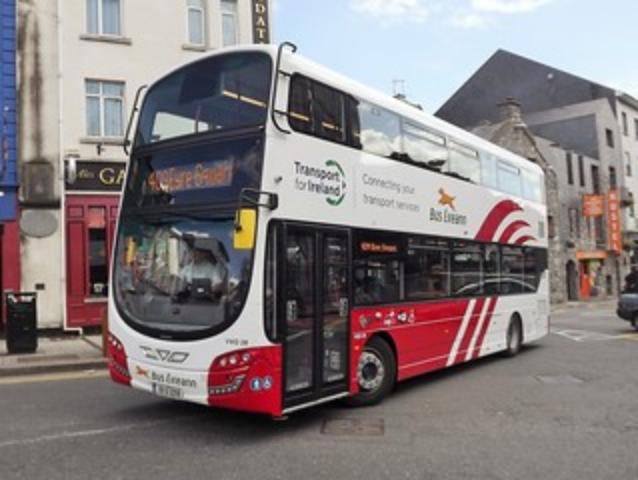bus: (102, 40, 548, 422)
